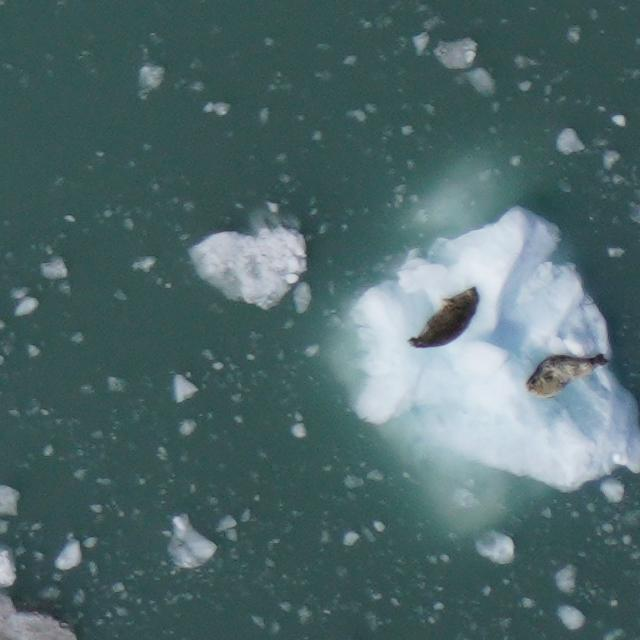seal: (402, 283, 484, 353), (522, 349, 612, 401)
